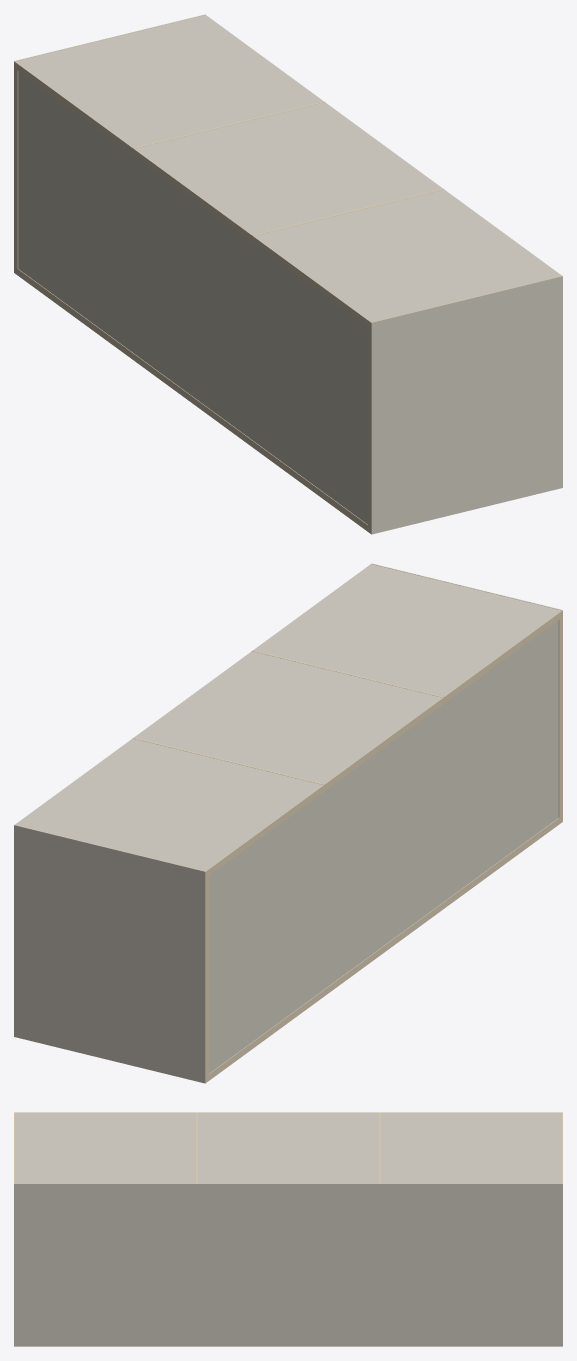
The model's file is v2-real-rear-bench-0.glb.
3 renders of one model, top to bottom at view 1: azimuth 30°, elevation 25°; view 2: azimuth 150°, elevation 25°; view 3: azimuth 270°, elevation 25°, orthographic. The views are drawn at different scales.
Size of the model in its own units: 540 by 570 by 1746.
